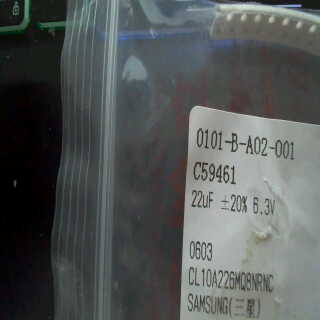22uF: (191, 186, 213, 211)
